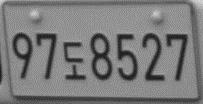2: (141, 31, 165, 81)
5: (116, 33, 138, 80)
7: (165, 32, 188, 81), (35, 32, 56, 79)
8: (89, 32, 113, 80)
9: (11, 32, 32, 79)
도: (62, 41, 87, 81)
